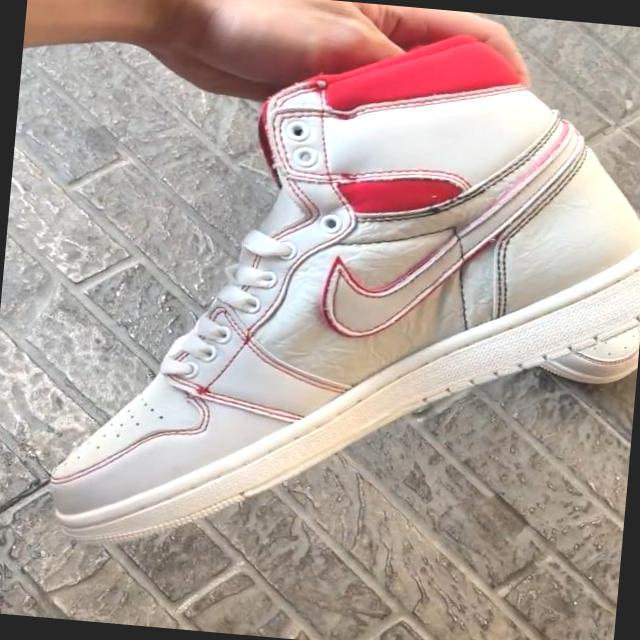nike_fake_jordan: (28, 3, 640, 574)
